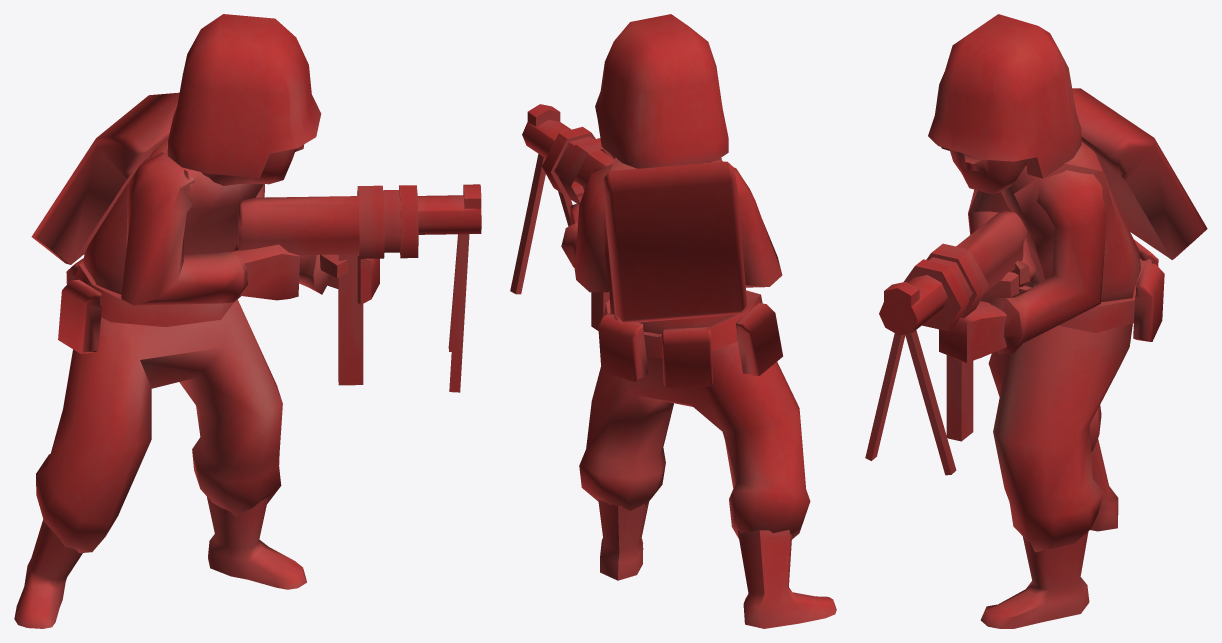
File: soldier.fbx
The picture shows the model from 3 angles, left to right: view 1: azimuth 30°, elevation 25°; view 2: azimuth 150°, elevation 25°; view 3: azimuth 270°, elevation 25°; orthographic projection. The views are drawn at different scales.
Parts seen in each view (by area): view 1: soldier; view 2: soldier; view 3: soldier.
Part boxes in pixels (x1,y1,x2,y2): soldier: (14, 14, 481, 628); soldier: (510, 14, 836, 628); soldier: (865, 14, 1207, 628).
Size of the model in its own units: 84.98 by 115 by 62.42.
